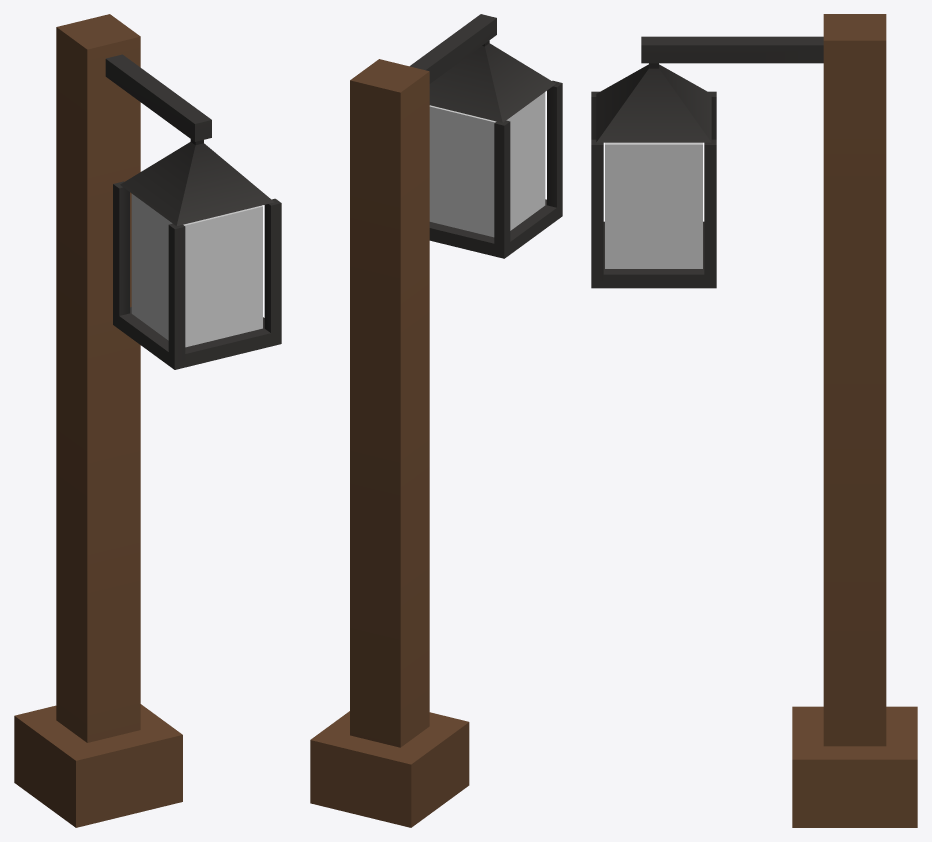
File: Lantern.glb
The picture shows the model from 3 angles, left to right: view 1: azimuth 30°, elevation 25°; view 2: azimuth 150°, elevation 25°; view 3: azimuth 270°, elevation 25°; orthographic projection. The views are drawn at different scales.
Parts seen in each view (by area): view 1: Post, Iron, Glass; view 2: Post, Iron, Glass; view 3: Post, Iron, Glass.
Boxes of the visible parts, x1,y1,x2,y2 form: Post: (14,14,182,827); Iron: (105,54,281,369); Glass: (131,194,262,347); Post: (310,59,469,827); Iron: (410,14,562,258); Glass: (429,92,545,237); Post: (792,14,917,827); Iron: (591,36,823,288); Glass: (605,142,702,268).
Size of the model in its own units: 1 by 6.8 by 2.6.
